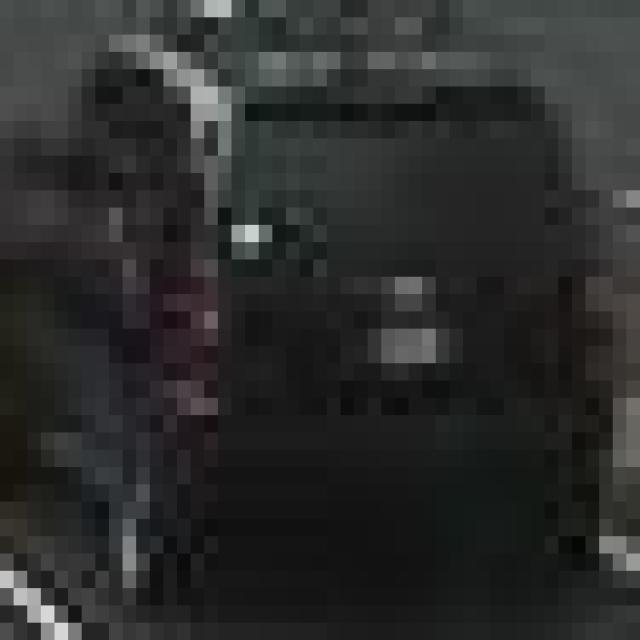Car: (77, 60, 640, 473)
